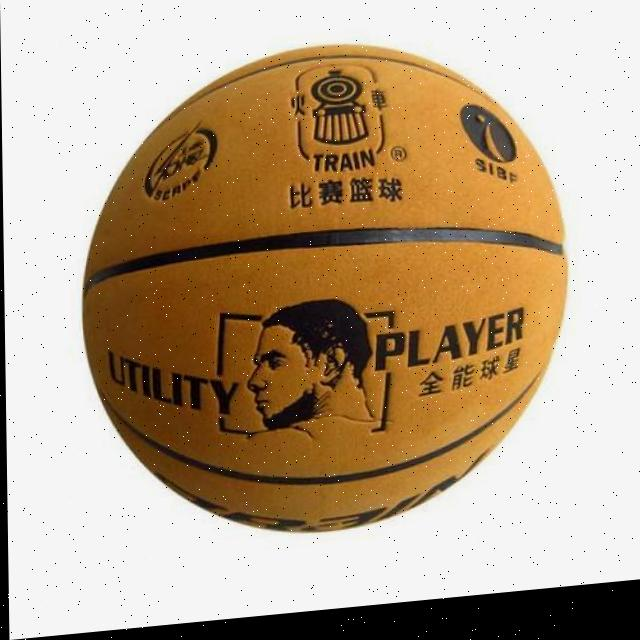Basketball: (77, 24, 571, 554)
